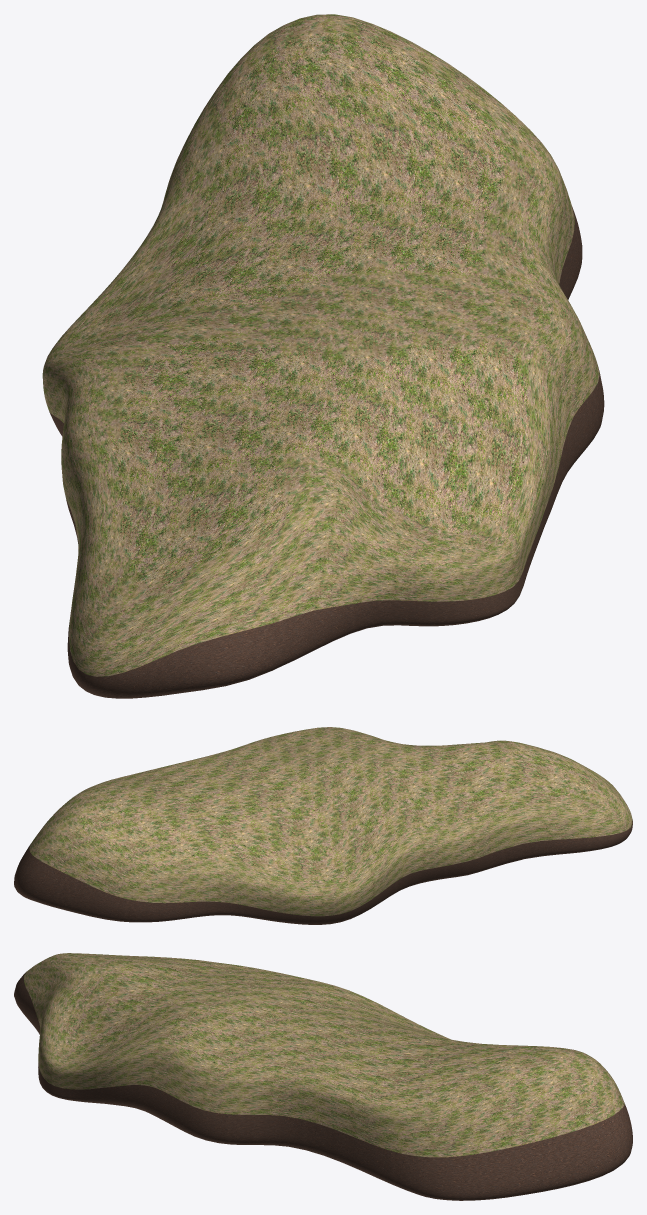
3 renders of one model, top to bottom at view 1: azimuth 30°, elevation 25°; view 2: azimuth 150°, elevation 25°; view 3: azimuth 270°, elevation 25°, orthographic. The views are drawn at different scales.
Parts seen in each view (by area): view 1: Cube076_grass_0, Cube076_dirt_0; view 2: Cube076_grass_0, Cube076_dirt_0; view 3: Cube076_grass_0, Cube076_dirt_0.
Boxes of the visible parts, box(x1,y1,x2,y2) form: Cube076_grass_0: box(42, 14, 599, 676); Cube076_dirt_0: box(49, 207, 604, 698); Cube076_grass_0: box(29, 727, 632, 916); Cube076_dirt_0: box(14, 785, 632, 924); Cube076_grass_0: box(24, 953, 624, 1157); Cube076_dirt_0: box(14, 972, 632, 1200).
Size of the model in its own units: 97.22 by 25.59 by 110.
Materials: 2 (2 with a texture image).
